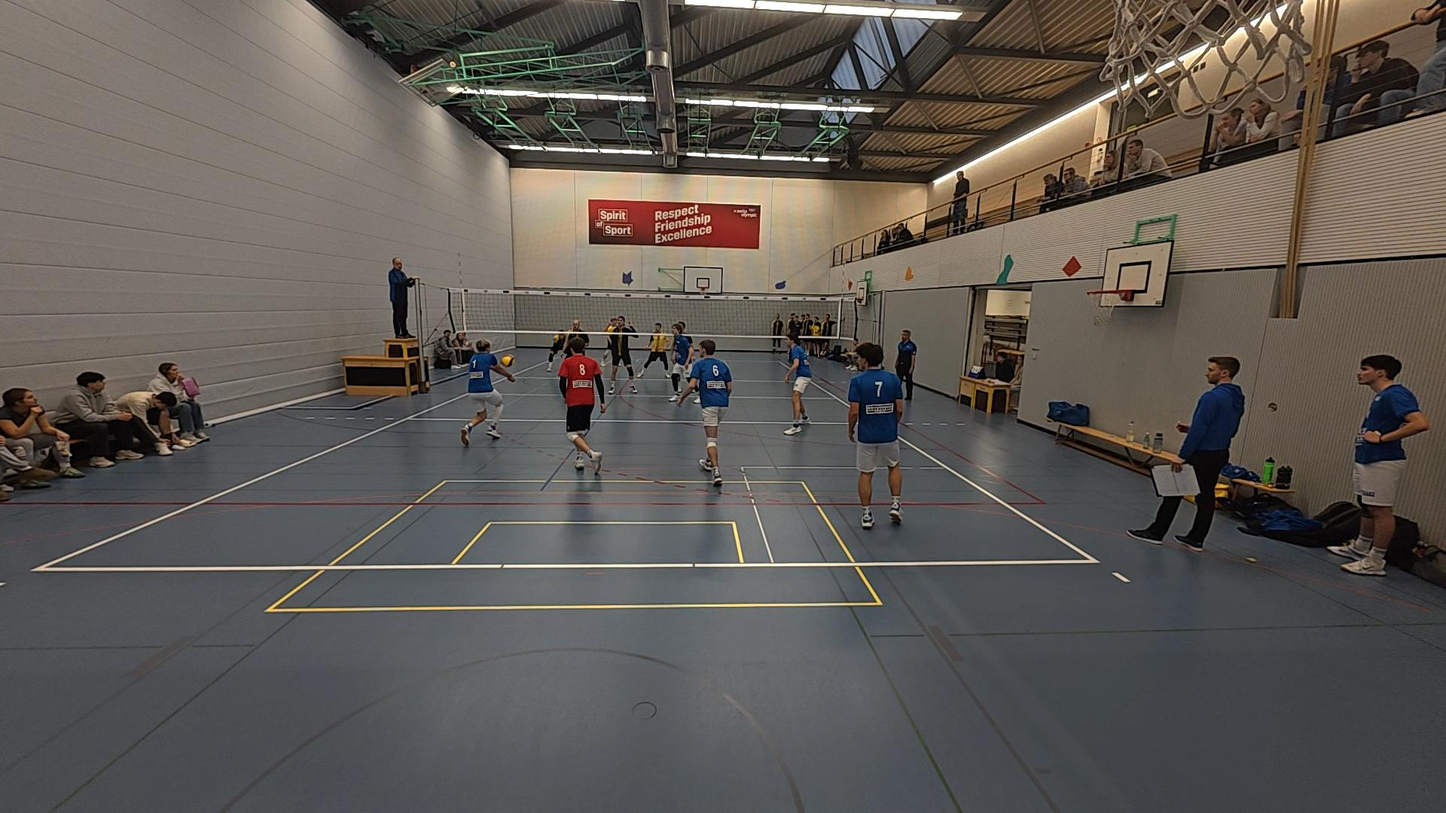ricezione: (462, 337, 515, 451)
